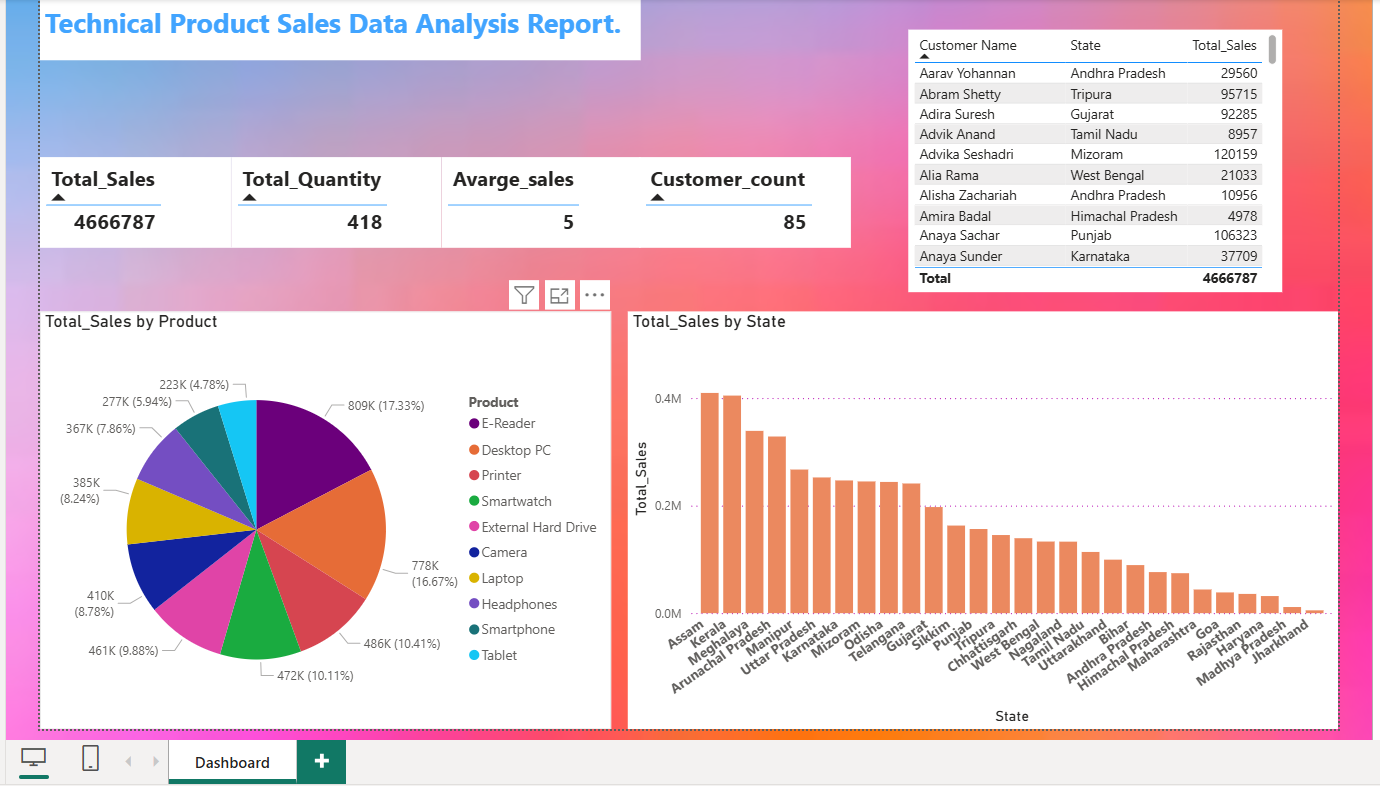

The dashboard page shown, as its layout file describes it:
{"tool":"powerbi","page":{"name":"Page 1","canvas":[1280,720],"ordinal":0},"visuals":[{"type":"tableEx","fields":{"Values":["Tech.Total_Sales"]},"box":[0,155.8,188.5,89.2],"z":0},{"type":"tableEx","fields":{"Values":["Tech.Total_Quantity"]},"box":[188.5,155.8,207.4,89.2],"z":1000},{"type":"tableEx","fields":{"Values":["Tech.Avarge_sales"]},"box":[395.9,155.8,196.1,89.2],"z":2000},{"type":"tableEx","fields":{"Values":["Tech.Customer_count"]},"box":[590.7,155.8,208.6,89.2],"z":3000},{"type":"pieChart","fields":{"Category":["Tech.Product"],"Y":["Tech.Total_Sales"]},"box":[0,307.9,563,412.2],"z":4000},{"type":"clusteredColumnChart","fields":{"Category":["Tech.State"],"Y":["Tech.Total_Sales"]},"box":[579.4,307.9,700,412.2],"z":5000},{"type":"textbox","box":[0,0,591.9,60.3],"z":6000},{"type":"tableEx","fields":{"Values":["Tech.Customer Name","Tech.State","Tech.Total_Sales"]},"box":[855.9,30.2,368.2,258.9],"z":7000}]}

Visuals, with their boxes in screenshot pixels (x1, y1, x2, y2):
tableEx - Tech.Total_Sales: detection(29, 153, 222, 244)
tableEx - Tech.Total_Quantity: detection(222, 153, 435, 244)
tableEx - Tech.Avarge_sales: detection(435, 153, 636, 244)
tableEx - Tech.Customer_count: detection(635, 153, 848, 244)
pieChart - Tech.Product x Tech.Total_Sales: detection(29, 309, 606, 731)
clusteredColumnChart - Tech.State x Tech.Total_Sales: detection(623, 309, 1341, 731)
textbox: detection(29, 0, 636, 55)
tableEx - Tech.Customer Name x Tech.State: detection(907, 24, 1284, 289)
